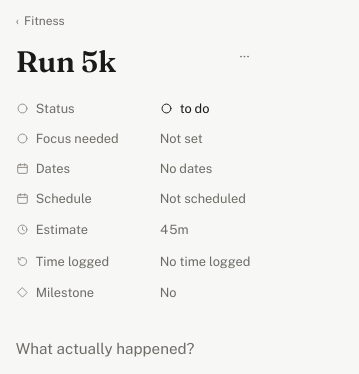
Test case: TaskPage › completes through toggleLeaf, so the tick arms an undo
Click the button with aria-label "Status: " at x=205, y=108, box top-left (154, 95), bottom-right (256, 122)
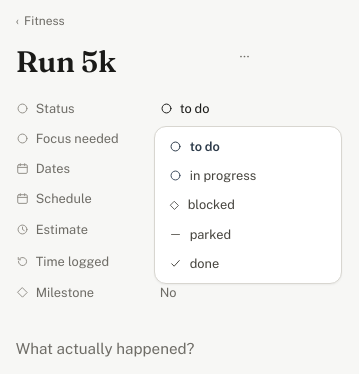
Click the menu item "done" at x=248, y=263, box top-left (160, 249), bottom-right (336, 278)
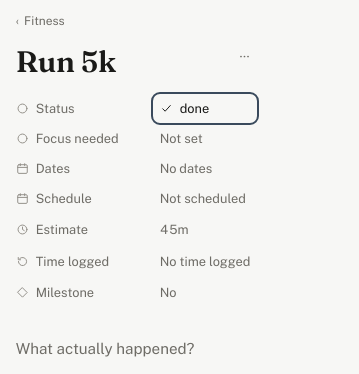
Check: the text "done" is shown, box top-left (180, 101), bottom-right (209, 116)
